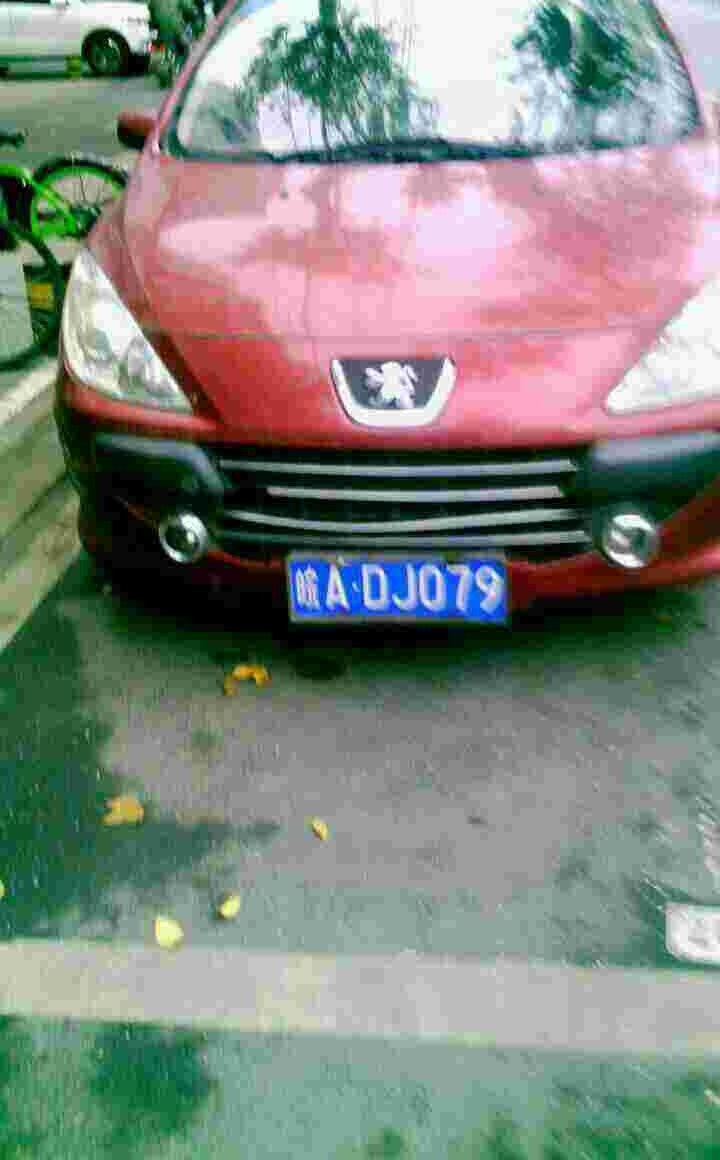license_plate: (292, 562, 517, 624)
